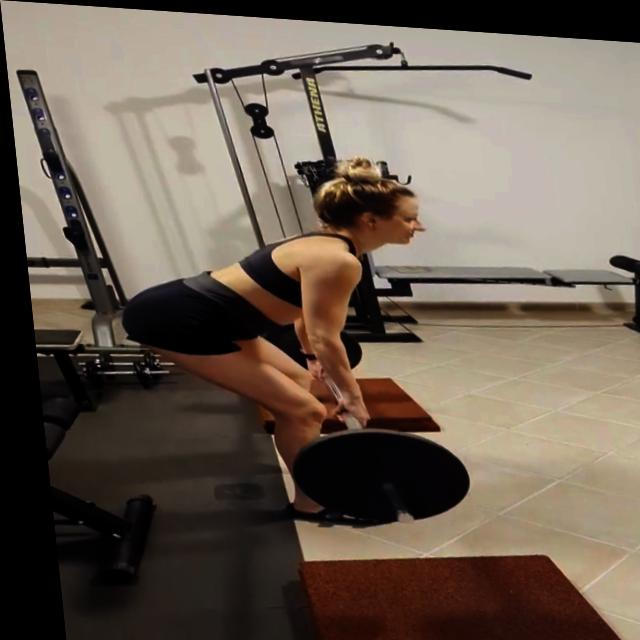barbell: (277, 418, 467, 530)
